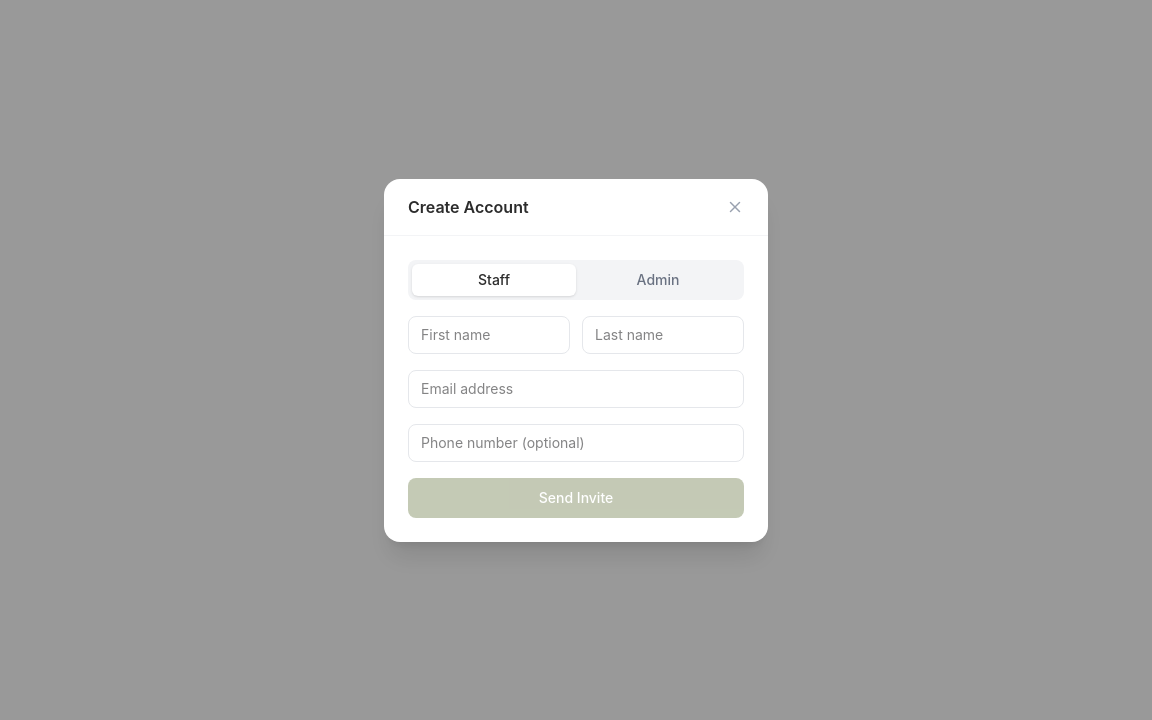
Test: CreateAccountModal › shows inline error when inviteUser fails
Type "Ana" into the field with placeholder "First name" at (489, 334), box [408, 316, 570, 354]
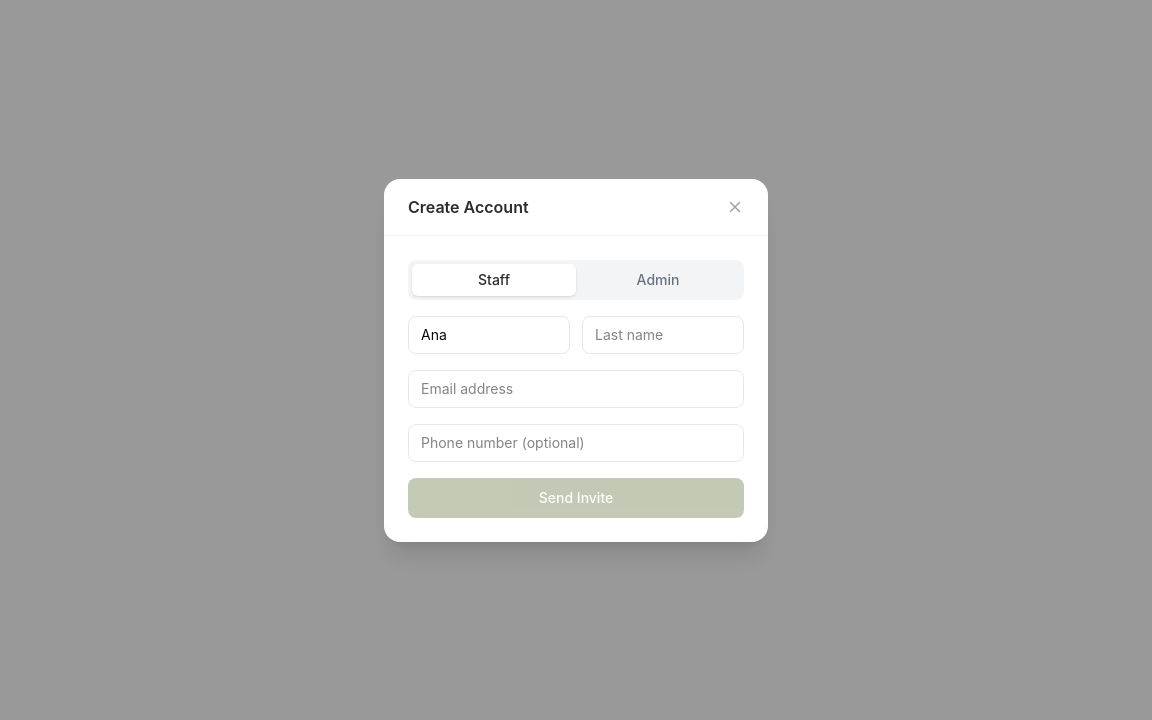
Type "Reyes" into the field with placeholder "Last name" at (663, 334), box [582, 316, 744, 354]
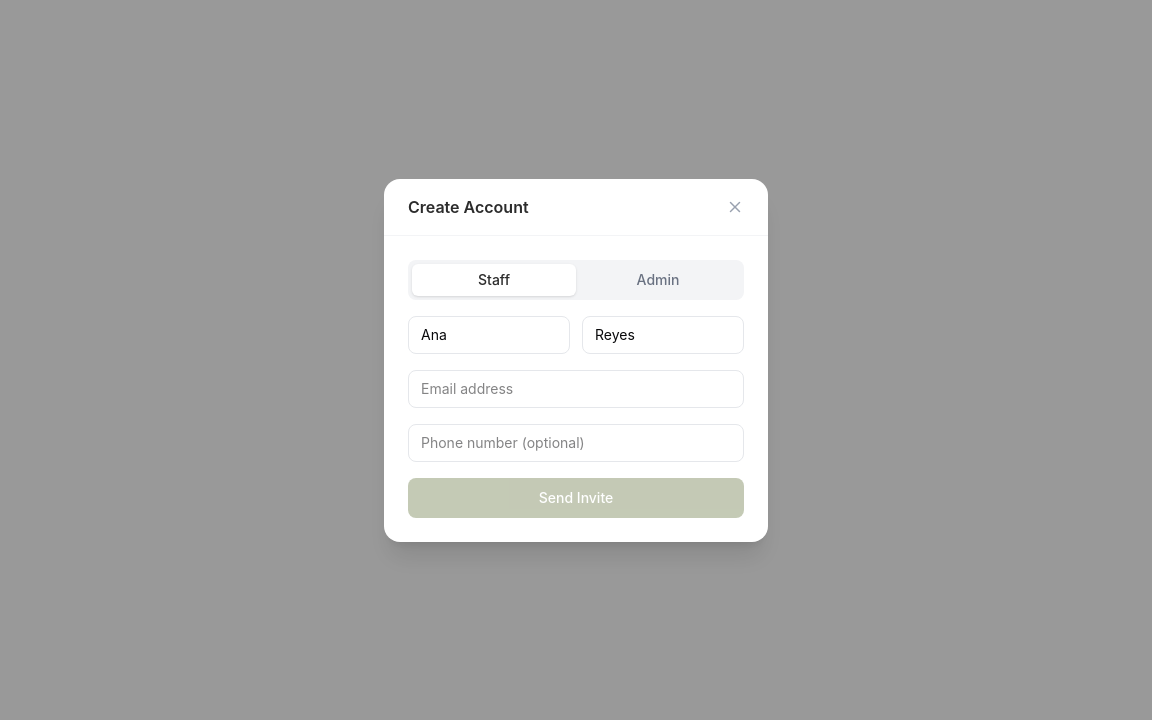
Type "ana@example.com" into the field with placeholder "Email address" at (576, 388), box [408, 370, 744, 408]
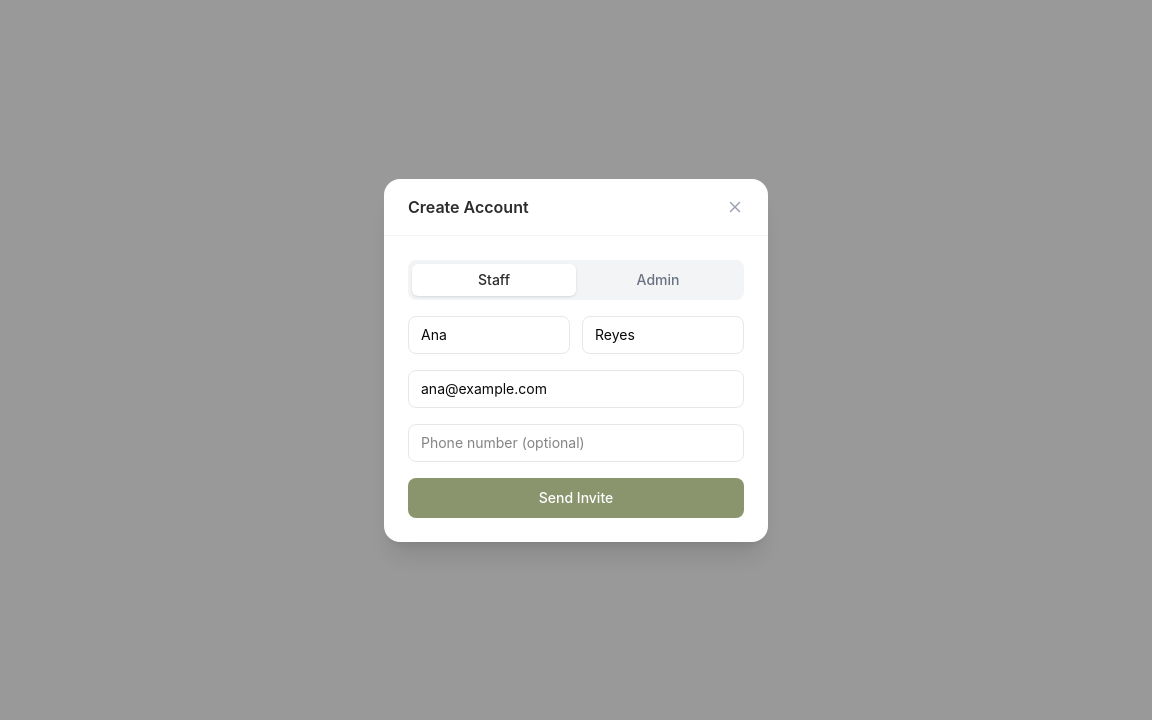
Click the button "Send Invite" at (576, 498), box [408, 478, 744, 518]
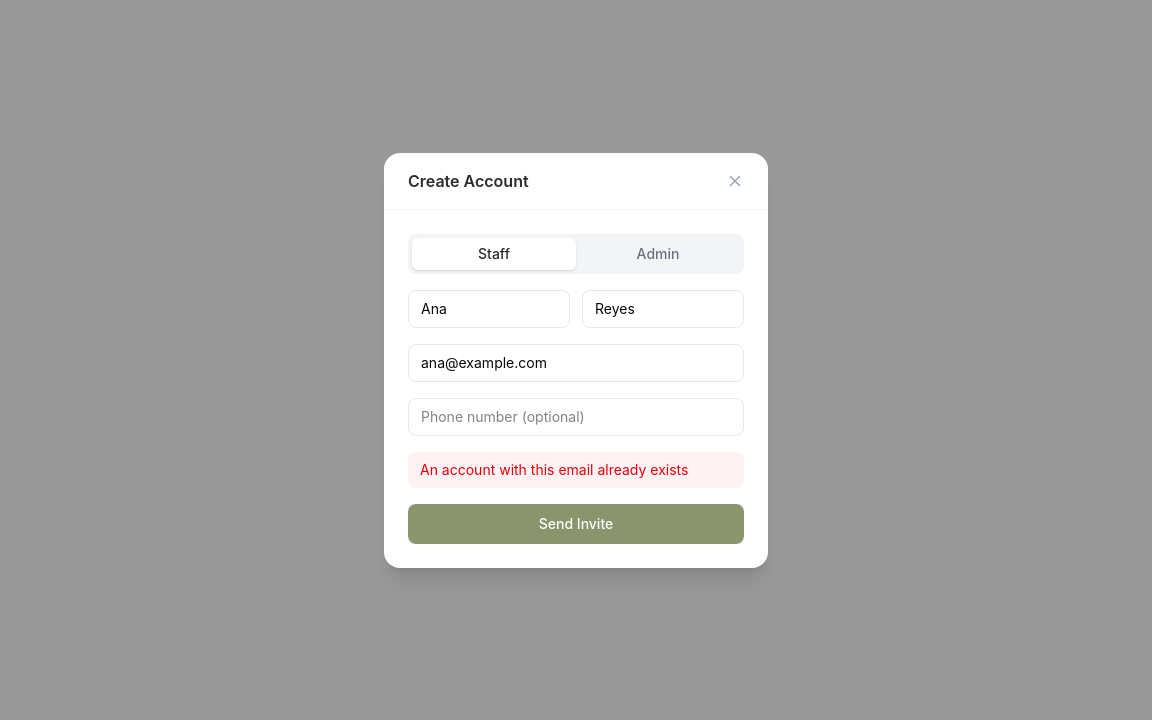
Expected: the text "An account with this email already exists" is shown, [408, 452, 744, 488]
